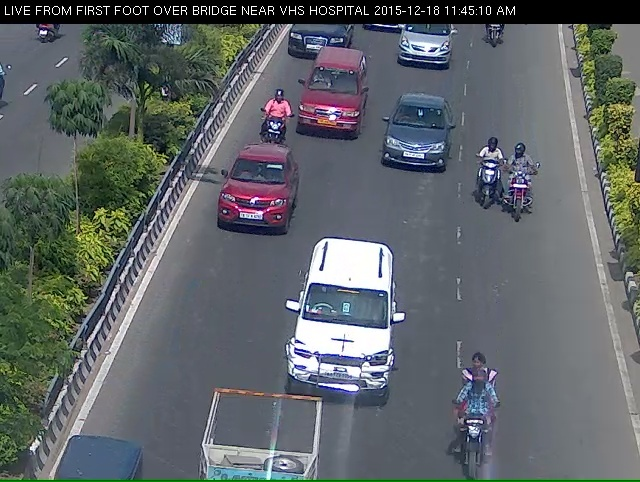Car: (285, 243, 405, 420), (217, 152, 290, 253), (302, 54, 364, 144), (387, 97, 449, 183), (395, 21, 451, 78)
Person: (445, 371, 498, 481), (503, 160, 539, 226), (479, 150, 503, 217), (475, 16, 512, 55), (259, 106, 288, 150)
